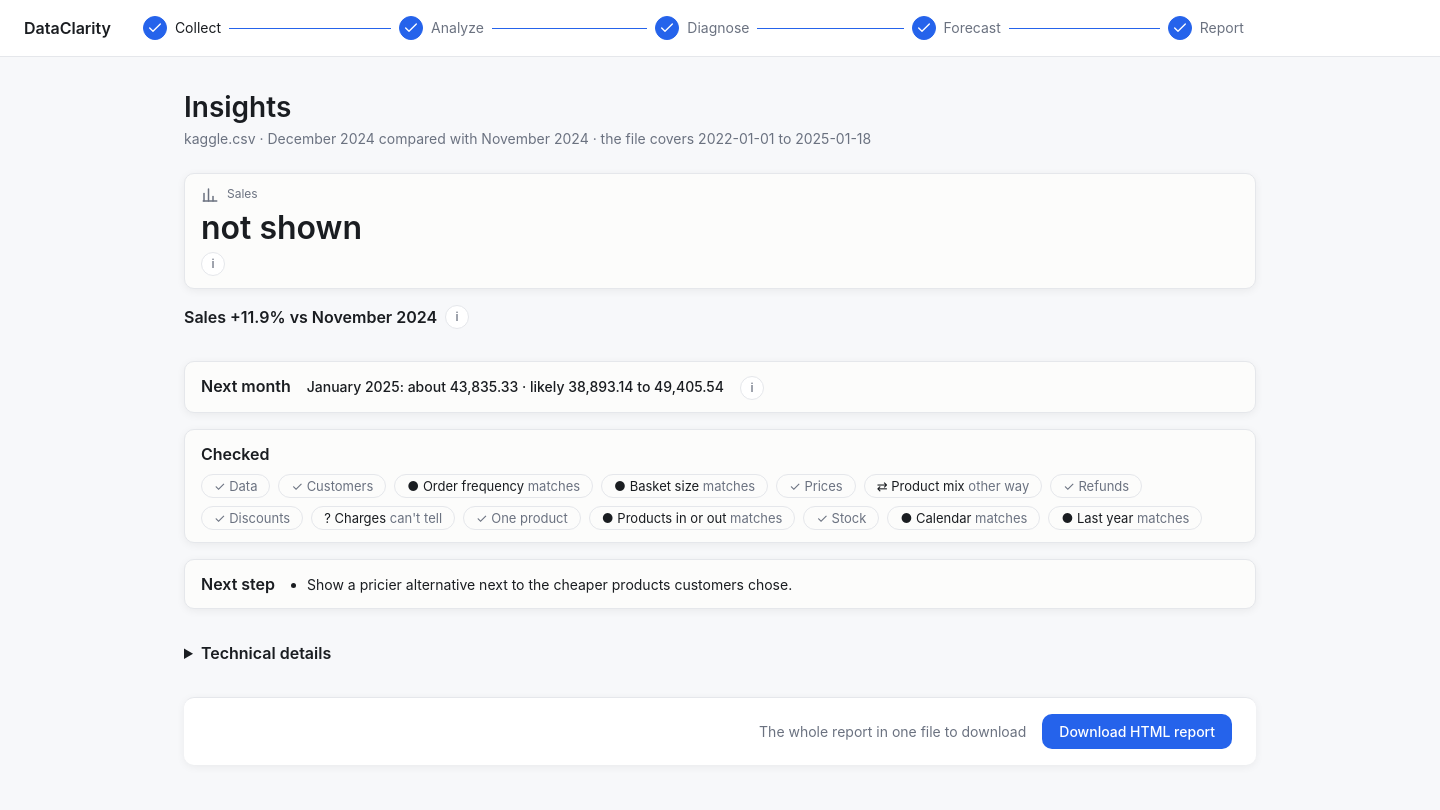
Insights draws the dashboard block › a blocked report: the sales tile's reason, no figure, three text widgets, the lines under the tiles
Check: the text with class "tile__value" reads "not shown", box [201,208,362,247]
Click the button with class "marker" below "not shown" at (213, 264), box [201,252,225,276]
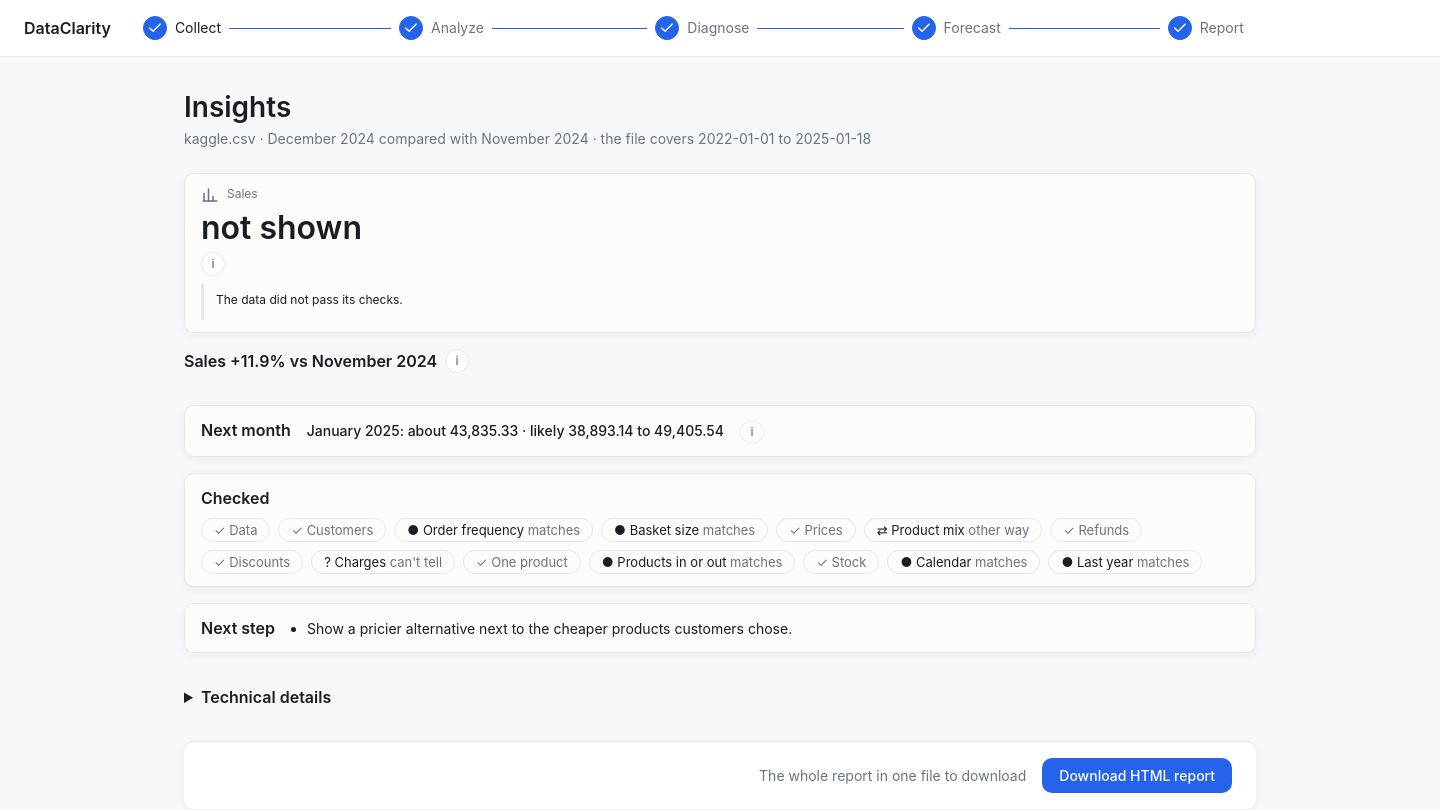
Check: the text "The data did not pass its checks." is shown, box [216,292,403,308]
